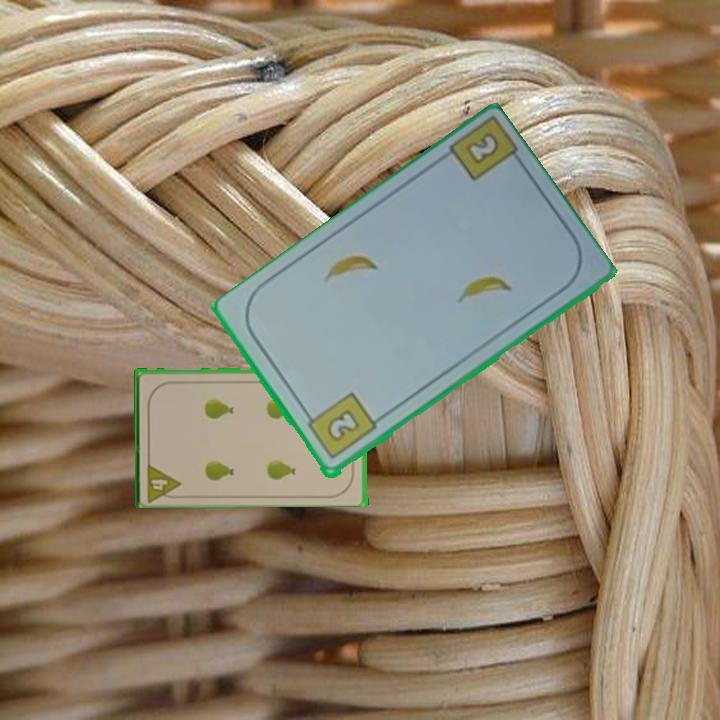2b: (301, 389, 380, 463), (462, 128, 503, 168)
4p: (143, 458, 184, 502)
